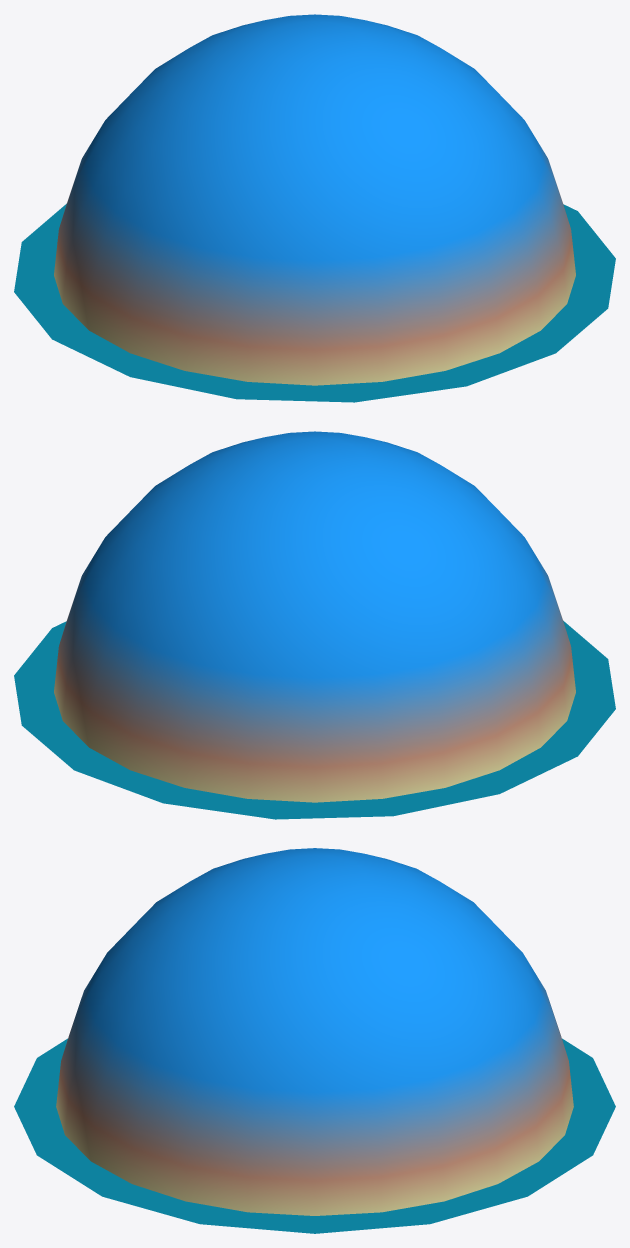
The model's file is Lobby.fbx.
3 views of the same model, one above another, from view 1: azimuth 30°, elevation 25°; view 2: azimuth 150°, elevation 25°; view 3: azimuth 270°, elevation 25° (orthographic).
Visible parts, largest first — view 1: Lobby_Dome, Lobby_Floor; view 2: Lobby_Dome, Lobby_Floor; view 3: Lobby_Dome, Lobby_Floor.
Part boxes in pixels (x1,y1,x2,y2): Lobby_Dome: [54, 14, 575, 385]; Lobby_Floor: [14, 203, 615, 402]; Lobby_Dome: [54, 431, 575, 802]; Lobby_Floor: [14, 620, 615, 819]; Lobby_Dome: [56, 848, 573, 1215]; Lobby_Floor: [14, 1038, 615, 1233].
Size of the model in its own units: 15124 by 6504 by 15124.
9 materials, 9 textured.
